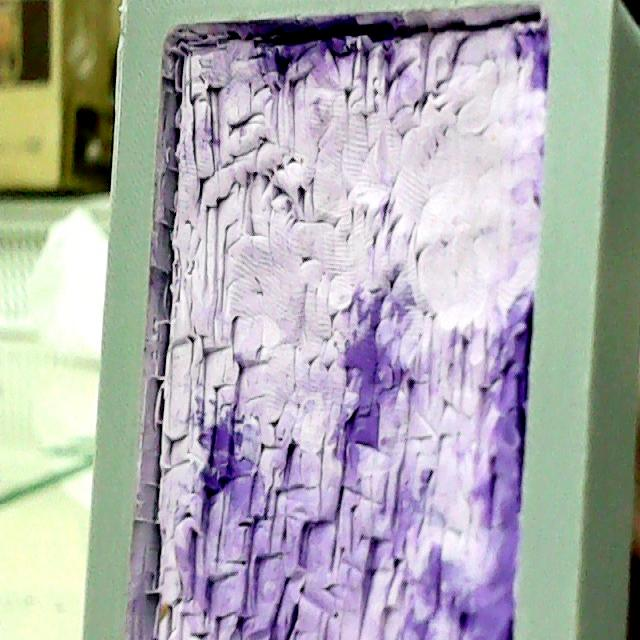block: (76, 0, 640, 639)
